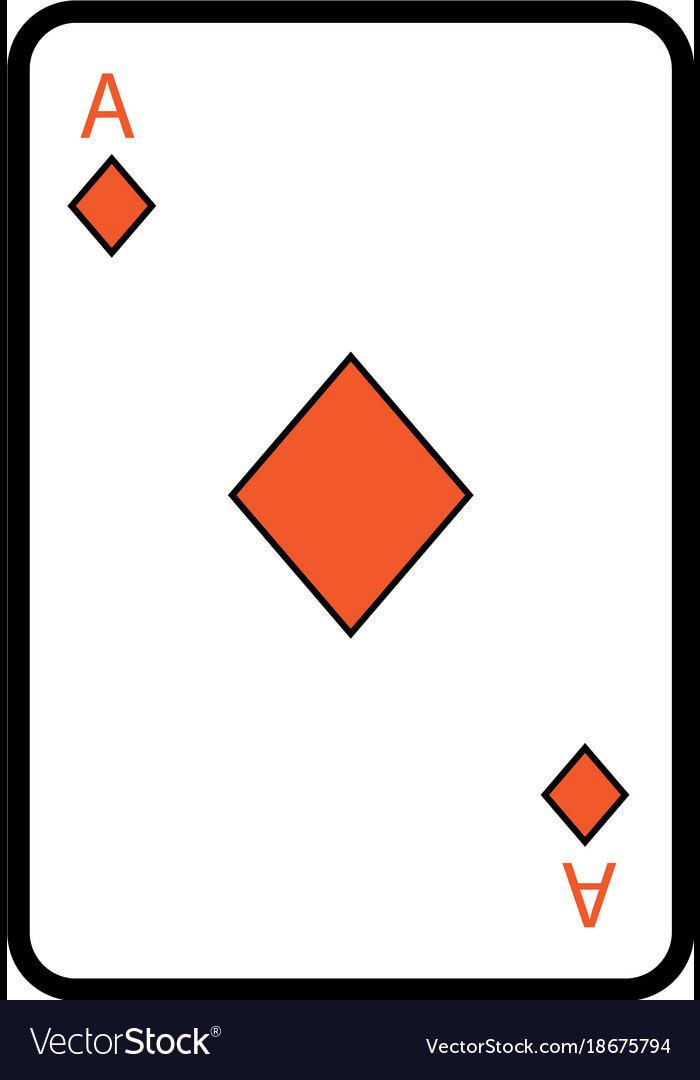ace of diamonds: (31, 18, 668, 982)
